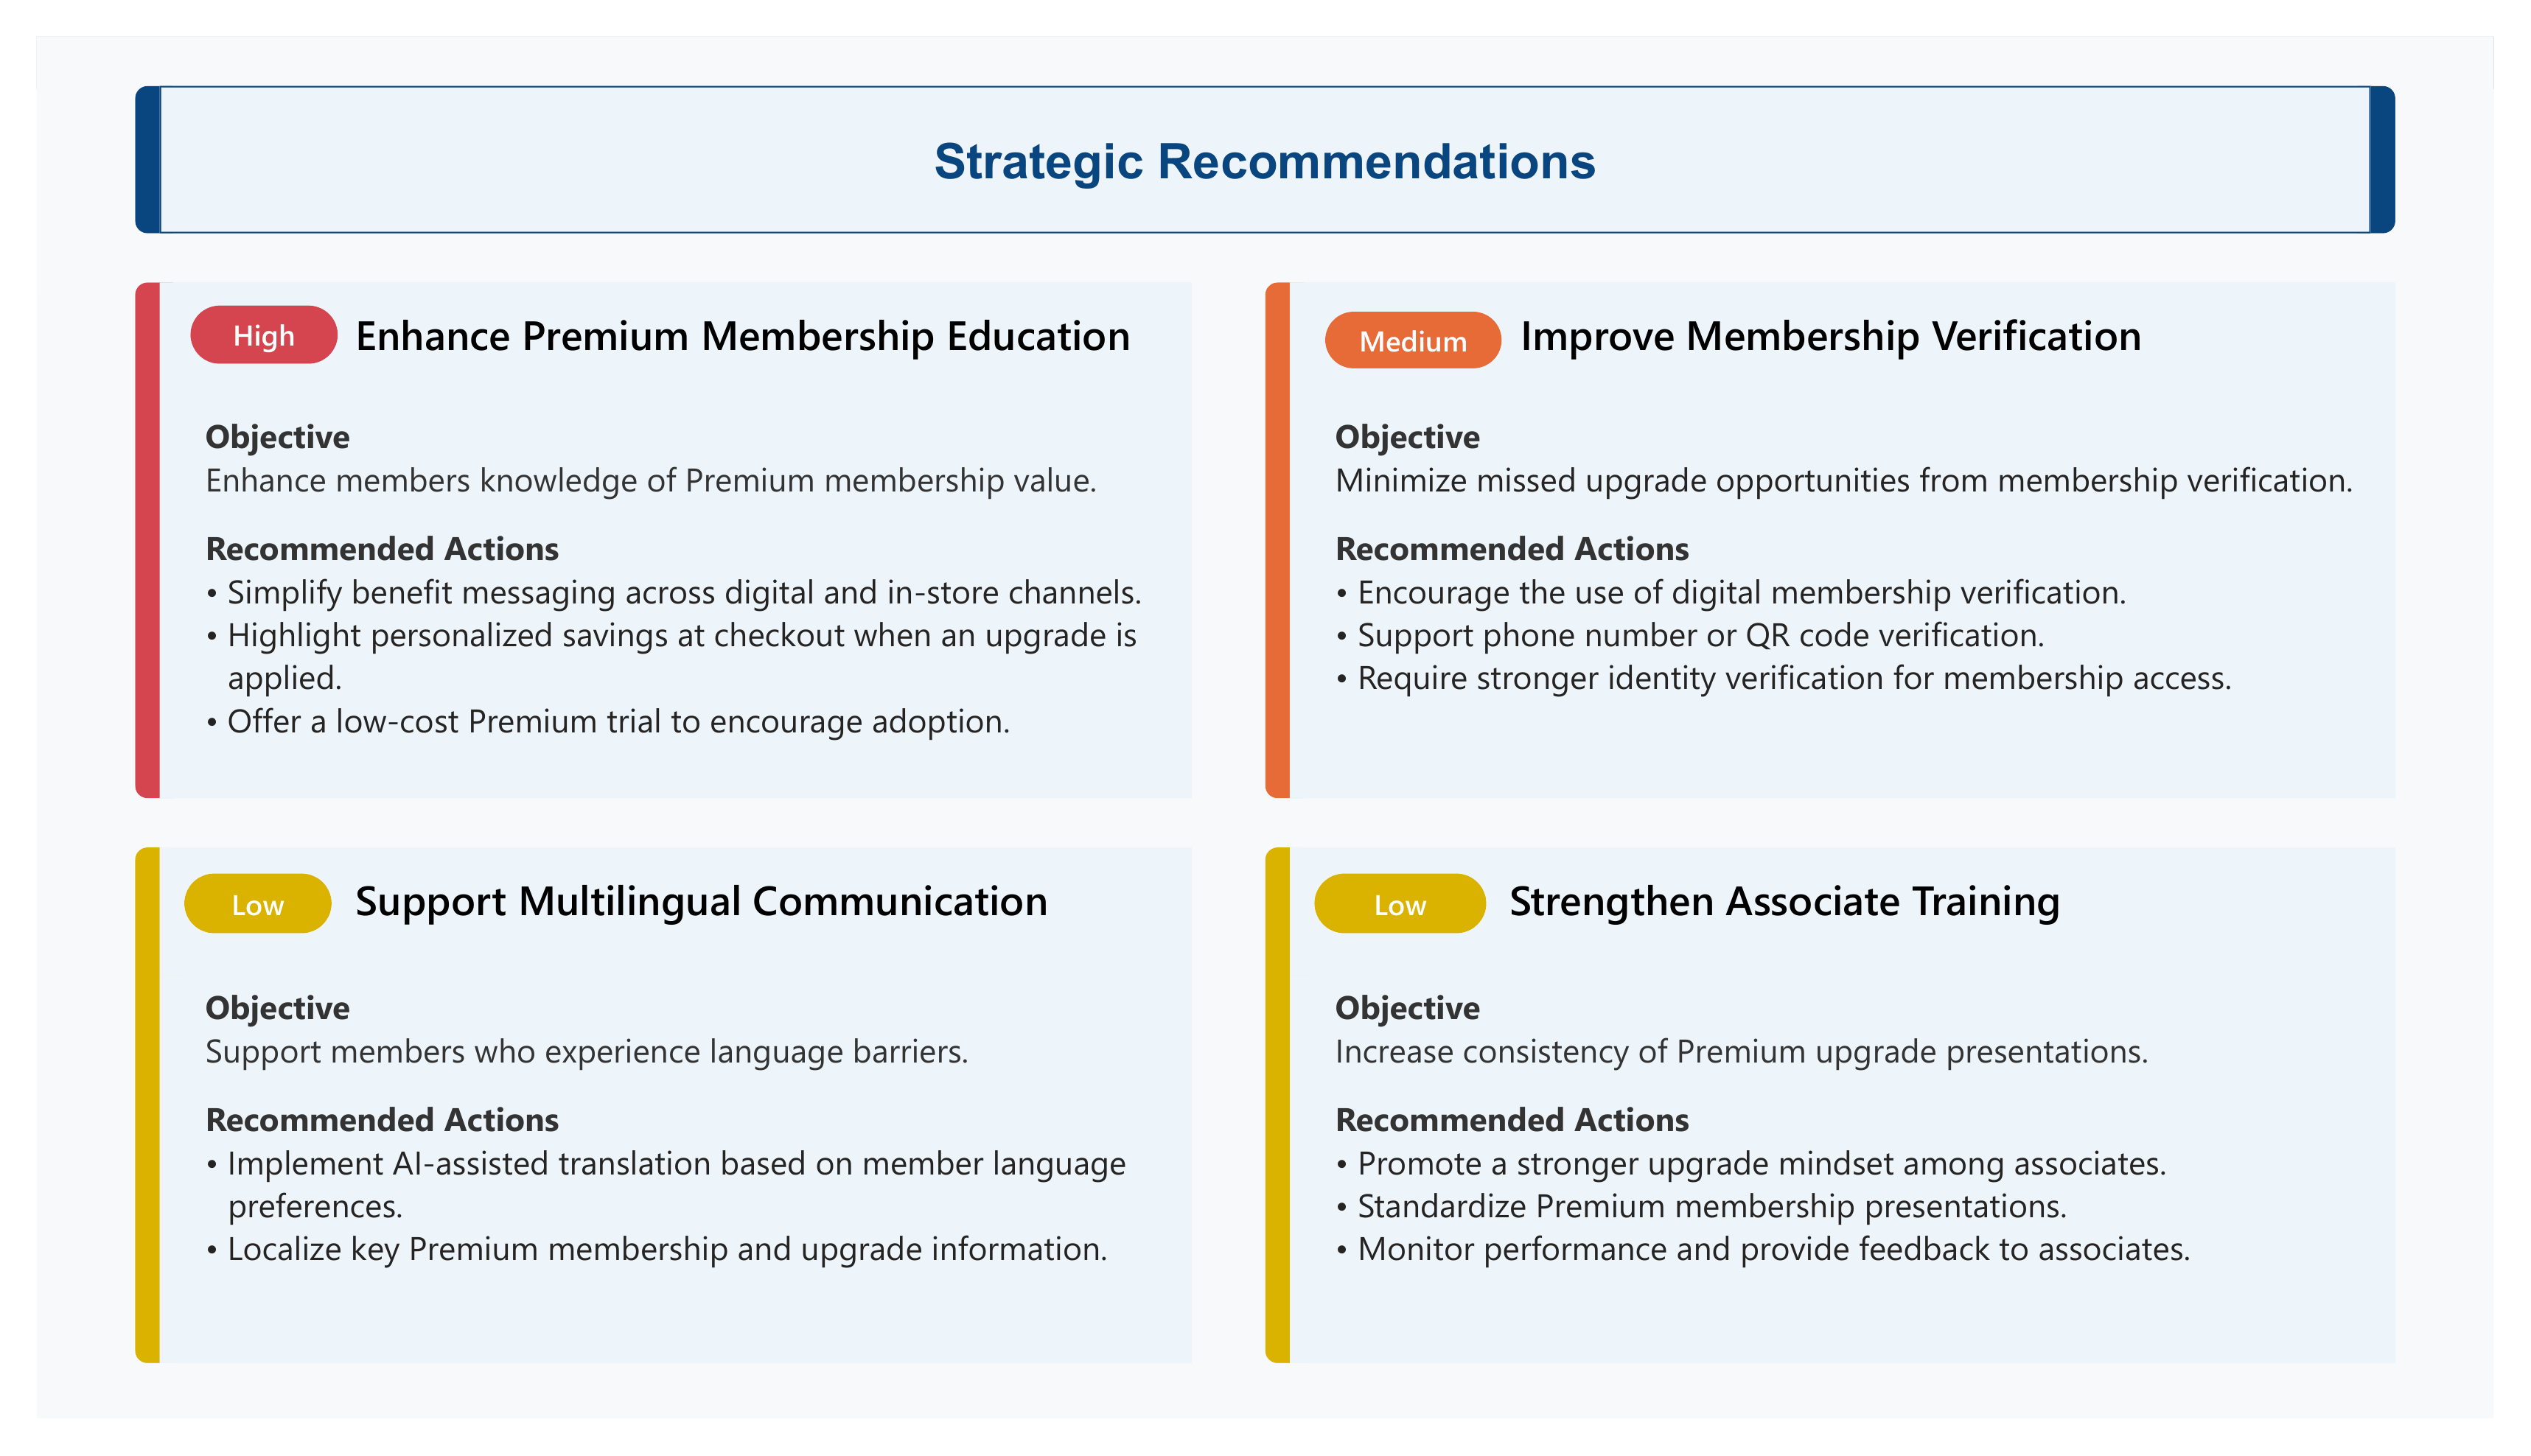

The dashboard page shown, as its layout file describes it:
{"tool":"powerbi","page":{"name":"Strategic Recommendations","canvas":[1600,900],"ordinal":2},"visuals":[{"type":"shape","box":[64,32,32,96],"z":0},{"type":"shape","box":[64,160,32,336],"z":0,"group":"g1"},{"type":"shape","box":[800,160,32,336],"z":0,"group":"g2"},{"type":"shape","box":[64,528,32,336],"z":0,"group":"g3"},{"type":"shape","box":[800,528,32,336],"z":0,"group":"g4"},{"type":"shape","box":[1504,32,32,96],"z":1000},{"type":"textbox","box":[80,160,672,80],"z":1750,"group":"g1"},{"type":"textbox","box":[816,160,720,80],"z":1750,"group":"g2"},{"type":"textbox","box":[80,528,672,84],"z":1750,"group":"g3"},{"type":"textbox","box":[816,528,720,84],"z":1750,"group":"g4"},{"type":"textbox","box":[80,32,1440,96],"z":2000},{"type":"group","id":"g1","title":"Group 1","box":[64,160,688,336],"z":3000},{"type":"textbox","box":[80,240,672,256],"z":3500,"group":"g1"},{"type":"textbox","box":[816,240,720,256],"z":3500,"group":"g2"},{"type":"textbox","box":[80,612,672,252],"z":3500,"group":"g3"},{"type":"textbox","box":[816,612,720,252],"z":3500,"group":"g4"},{"type":"group","id":"g2","title":"Group 1","box":[800,160,736,336],"z":4000},{"type":"shape","box":[99.6,175.4,96.7,37.8],"z":5000,"group":"g1"},{"type":"shape","box":[839.3,178.9,114.3,37.1],"z":5000,"group":"g2"},{"type":"group","id":"g3","title":"Group 1","box":[64,528,688,336],"z":5000},{"type":"shape","box":[96,544.8,96,38.9],"z":5000,"group":"g3"},{"type":"shape","box":[832,544.8,112,38.9],"z":5000,"group":"g4"},{"type":"group","id":"g4","title":"Group 1","box":[800,528,736,336],"z":6000}]}

Visuals, with their boxes on the page's 1600x900 design canvas (x1, y1, x2, y2). These are canvas units, not pixel positions in the 2531x1456 screenshot, which may show the page scaled, cropped or inside an application window:
shape: BBox(64, 32, 96, 128)
shape: BBox(64, 160, 96, 496)
shape: BBox(800, 160, 832, 496)
shape: BBox(64, 528, 96, 864)
shape: BBox(800, 528, 832, 864)
shape: BBox(1504, 32, 1536, 128)
textbox: BBox(80, 160, 752, 240)
textbox: BBox(816, 160, 1536, 240)
textbox: BBox(80, 528, 752, 612)
textbox: BBox(816, 528, 1536, 612)
textbox: BBox(80, 32, 1520, 128)
"Group 1" group: BBox(64, 160, 752, 496)
textbox: BBox(80, 240, 752, 496)
textbox: BBox(816, 240, 1536, 496)
textbox: BBox(80, 612, 752, 864)
textbox: BBox(816, 612, 1536, 864)
"Group 1" group: BBox(800, 160, 1536, 496)
shape: BBox(100, 175, 196, 213)
shape: BBox(839, 179, 954, 216)
"Group 1" group: BBox(64, 528, 752, 864)
shape: BBox(96, 545, 192, 584)
shape: BBox(832, 545, 944, 584)
"Group 1" group: BBox(800, 528, 1536, 864)
